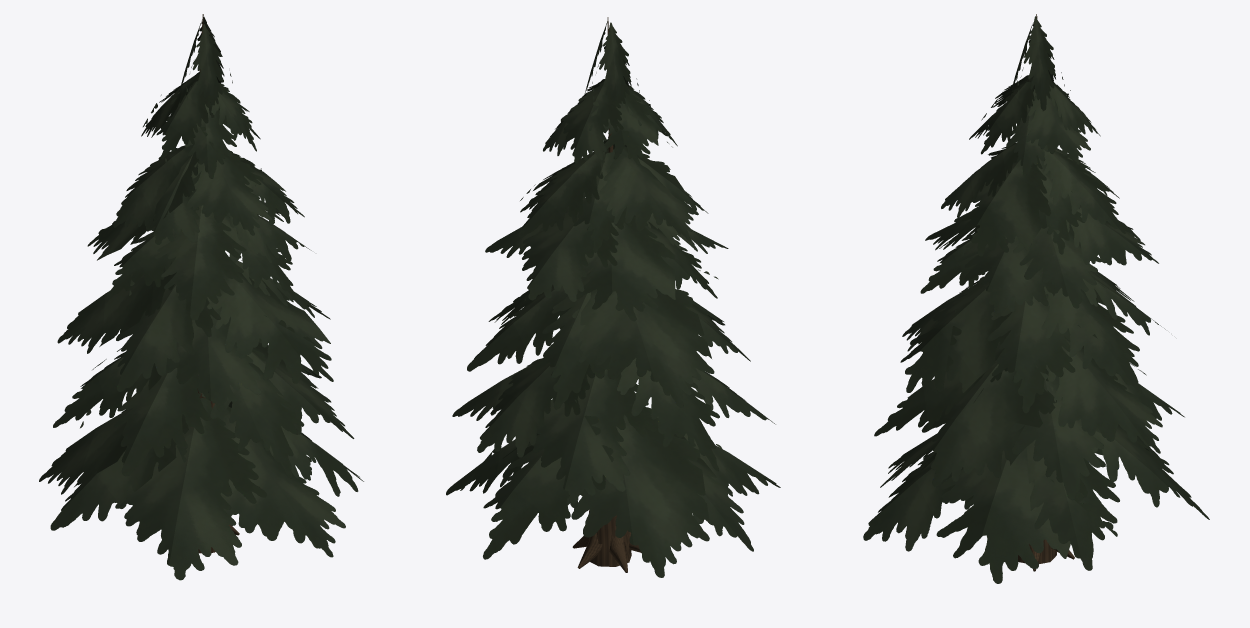
The picture shows the model from 3 angles, left to right: view 1: azimuth 30°, elevation 25°; view 2: azimuth 150°, elevation 25°; view 3: azimuth 270°, elevation 25°; orthographic projection. The views are drawn at different scales.
Parts seen in each view (by area): view 1: Tapered harvest trunk; view 2: Tapered harvest trunk; view 3: Tapered harvest trunk.
Part boxes in pixels (<box>): Tapered harvest trunk: <box>39,14,363,580</box>; Tapered harvest trunk: <box>446,17,780,577</box>; Tapered harvest trunk: <box>863,14,1209,583</box>.
Size of the model in its own units: 7.18 by 11.41 by 7.58.
3 materials, 2 textured.
